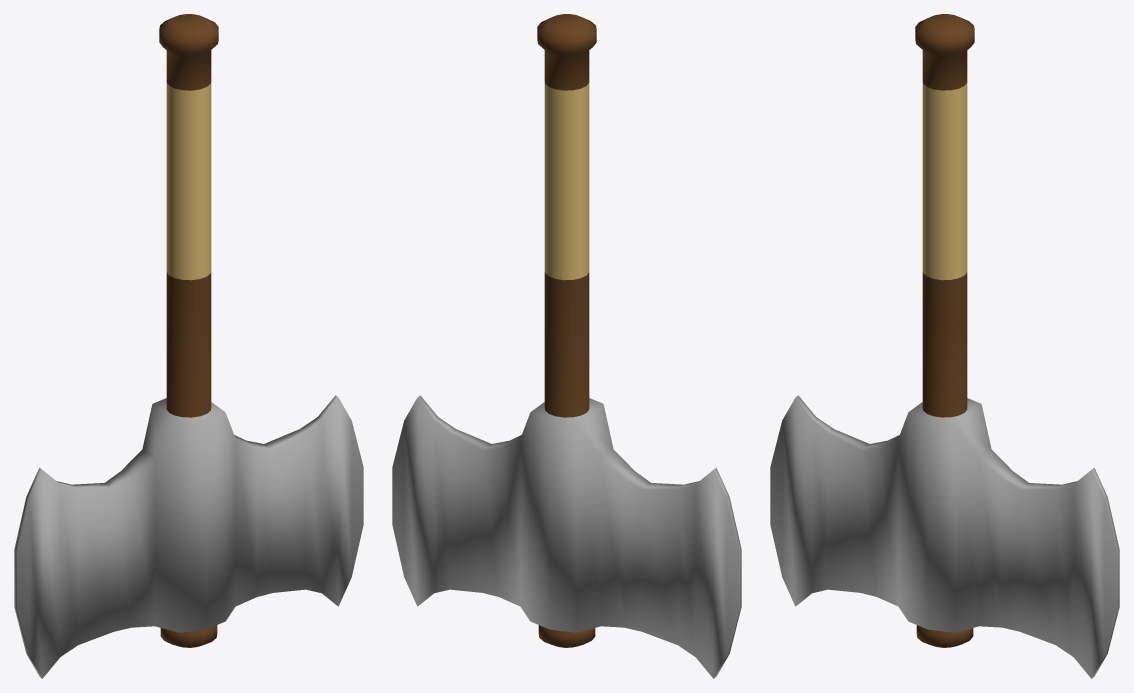
The model's file is axe.fbx.
3 renders of one model, left to right at view 1: azimuth 30°, elevation 25°; view 2: azimuth 150°, elevation 25°; view 3: azimuth 330°, elevation 25°, orthographic.
Visible parts, largest first — view 1: Axe; view 2: Axe; view 3: Axe.
Boxes of the visible parts, x1,y1,x2,y2 form: Axe: (14, 14, 363, 678); Axe: (392, 14, 741, 678); Axe: (770, 14, 1119, 678).
Bounding box in the file's own units: 51.07 × 8.63 × 87.44.
